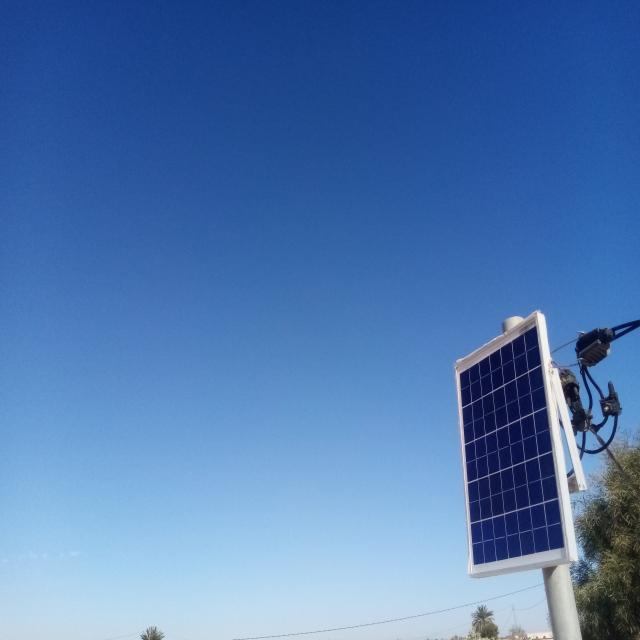Normal Solar Panel: (456, 313, 571, 577)
